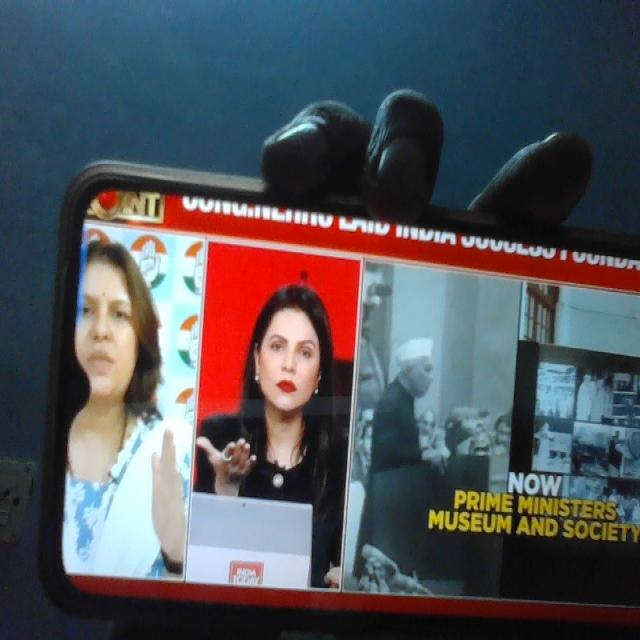fake: (58, 207, 164, 408)
